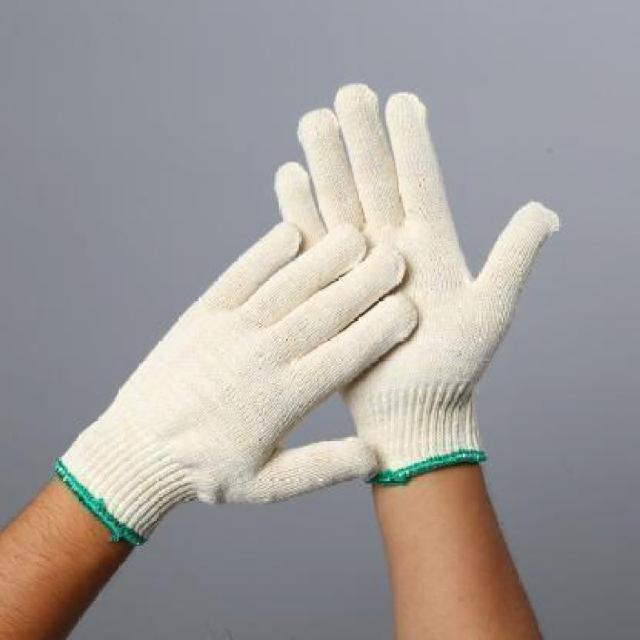hand_glove: (271, 83, 558, 448), (151, 220, 418, 522)
